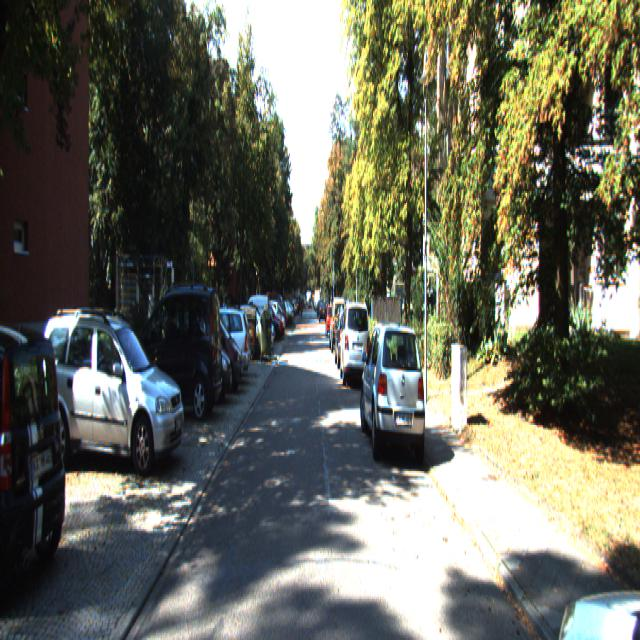Car: (38, 303, 187, 475), (0, 310, 74, 618), (124, 280, 222, 428), (360, 317, 426, 470), (180, 300, 250, 386), (339, 299, 373, 390), (334, 309, 360, 369), (330, 302, 347, 355)
